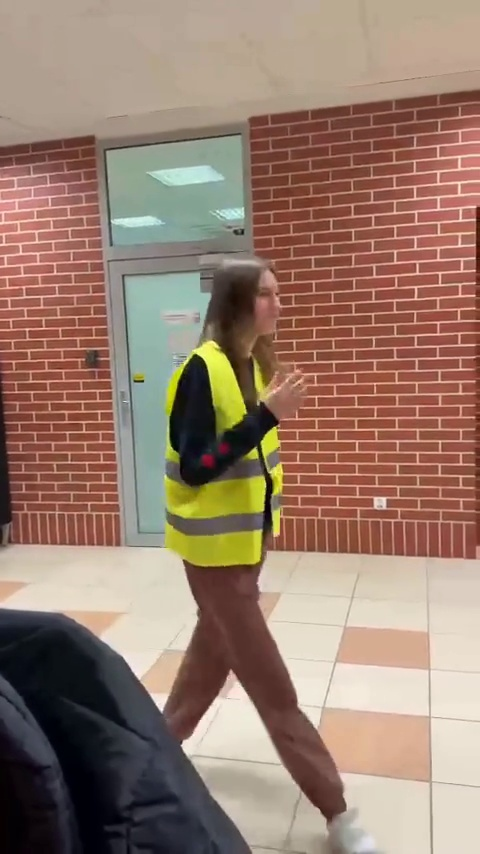vest: (147, 253, 325, 828)
